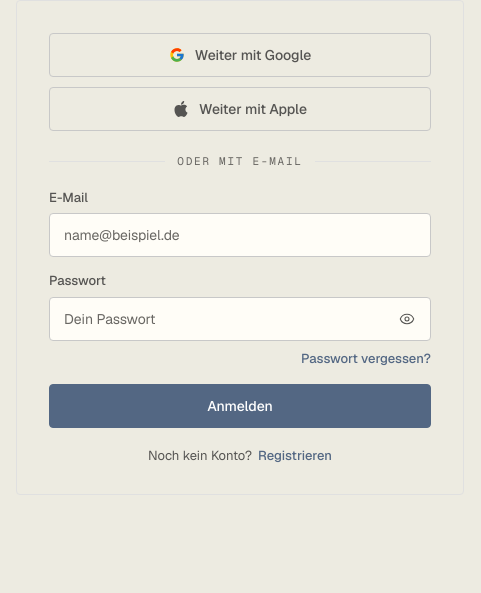
LoginForm › error handling › shows server unavailable message for status 0
Type "t@t.de" into the field labelled "E-Mail" at (240, 235), box [49,213,431,257]
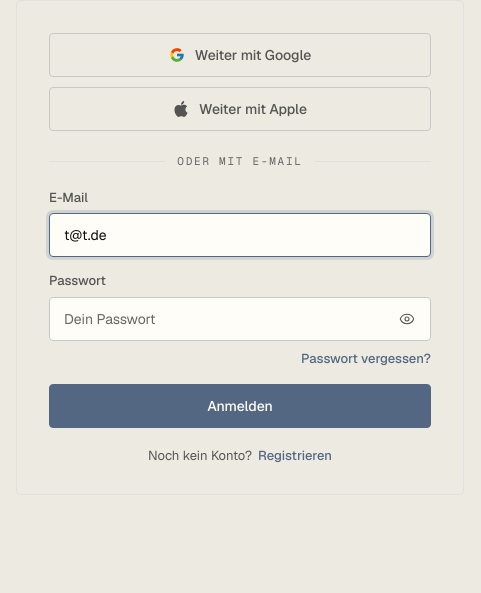
Type "pass" into the password field labelled "Passwort" at (240, 318), box [49,296,431,340]
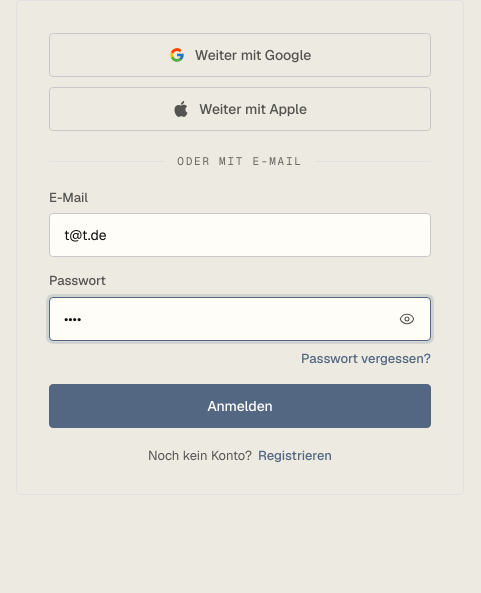
Click the button "Anmelden" at (240, 406), box [49,384,431,428]
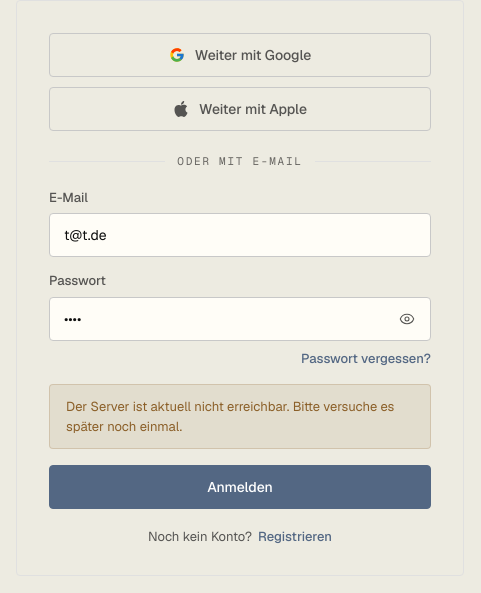
Check: the message shows "Der Server ist aktuell nicht erreichbar", box [66,398,394,434]
